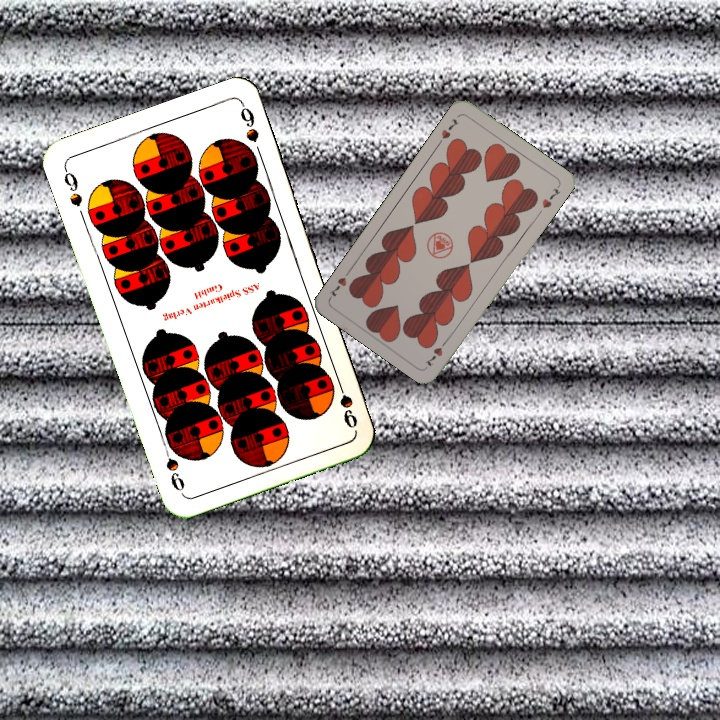H7: (422, 335, 451, 369), (434, 114, 462, 147)
S9: (332, 374, 360, 431), (59, 163, 85, 209)
